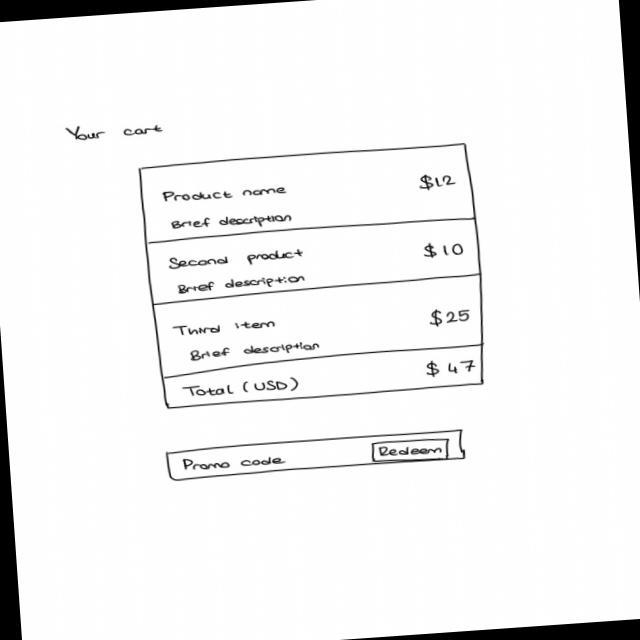button: (370, 435, 452, 464)
container: (152, 271, 493, 381), (135, 142, 479, 244), (144, 217, 486, 307), (160, 344, 489, 411), (166, 428, 469, 483)
label: (167, 246, 307, 272), (177, 273, 308, 297), (161, 182, 291, 206), (189, 340, 322, 363), (182, 376, 303, 401), (170, 211, 294, 235), (180, 449, 289, 473), (64, 118, 166, 143), (172, 318, 278, 339), (424, 357, 478, 380), (428, 307, 473, 331), (419, 239, 467, 261), (417, 171, 459, 192)
